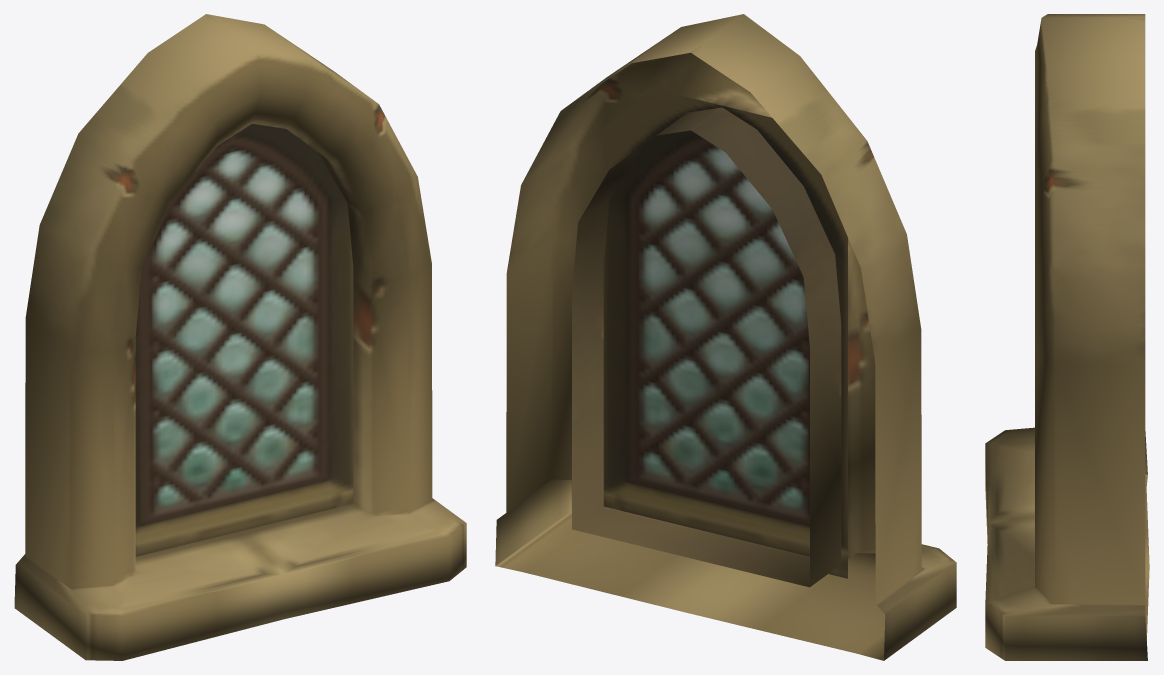
File: window.FBX
3 views of the same model, side by side, from view 1: azimuth 30°, elevation 25°; view 2: azimuth 150°, elevation 25°; view 3: azimuth 270°, elevation 25° (orthographic). The views are drawn at different scales.
Visible parts, largest first — view 1: window; view 2: window; view 3: window.
Part boxes in pixels (x1,y1,x2,y2): window: [14, 14, 466, 660]; window: [495, 14, 956, 660]; window: [985, 14, 1149, 660].
Bounding box in the file's own units: 231 × 318 × 86.14.
